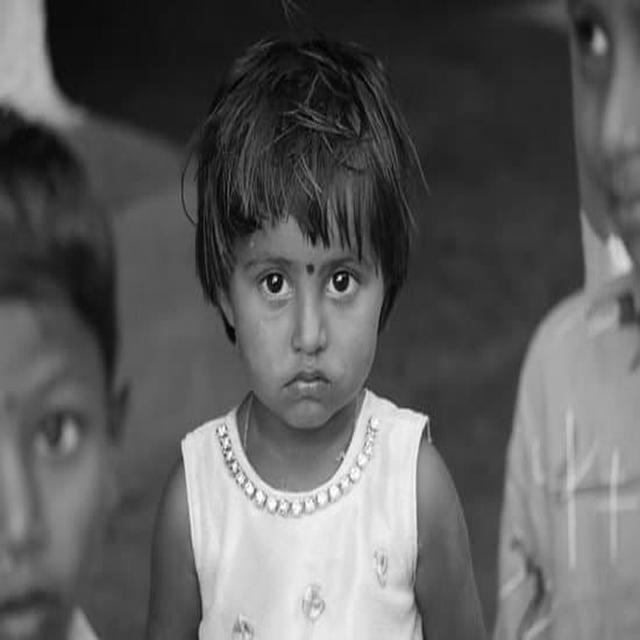Sadness: (240, 215, 378, 429)
